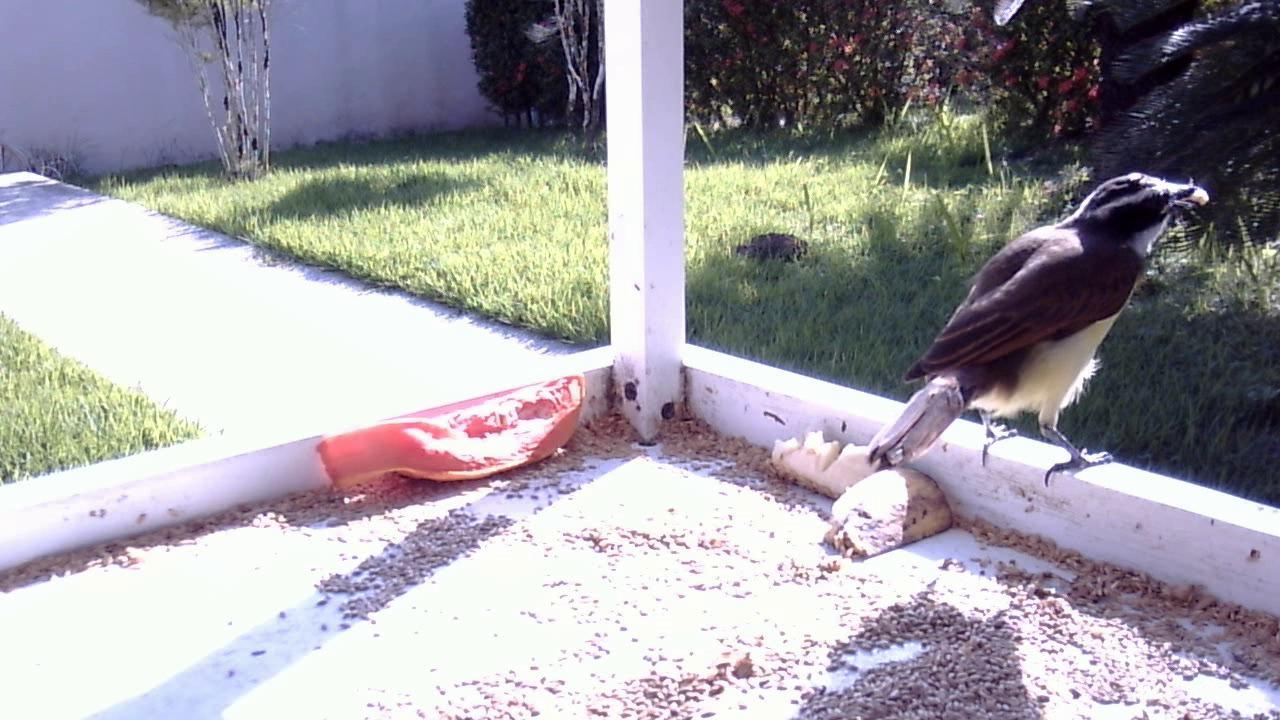bem_te_vi: (850, 164, 1211, 495)
